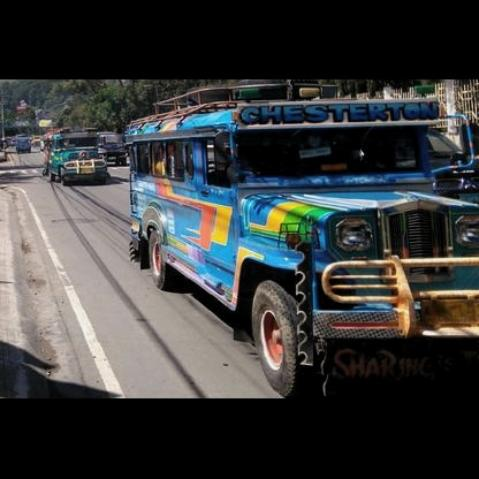jeepney: (107, 84, 479, 390), (46, 136, 103, 185)
